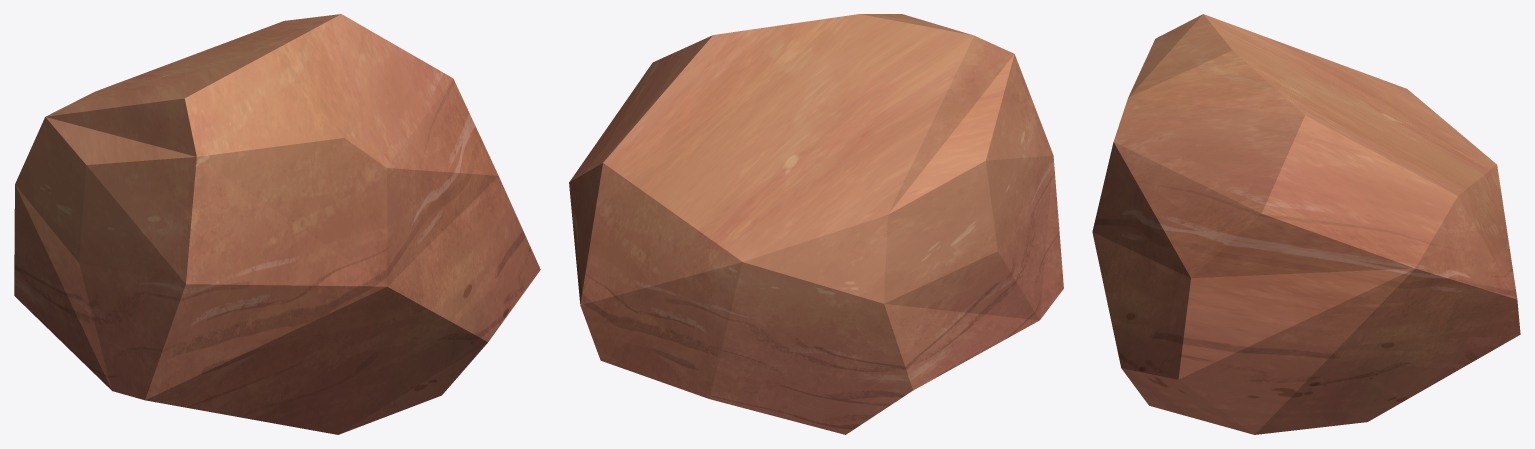
Rendered from rock_2_007.fbx.
3 views of the same model, side by side, from view 1: azimuth 30°, elevation 25°; view 2: azimuth 150°, elevation 25°; view 3: azimuth 270°, elevation 25° (orthographic). The views are drawn at different scales.
Visible parts, largest first — view 1: rock 2.007; view 2: rock 2.007; view 3: rock 2.007.
Boxes of the visible parts, x1,y1,x2,y2 form: rock 2.007: (14,14,540,434); rock 2.007: (569,14,1063,434); rock 2.007: (1092,14,1520,434).
Bounding box in the file's own units: 438 × 391 × 443.
